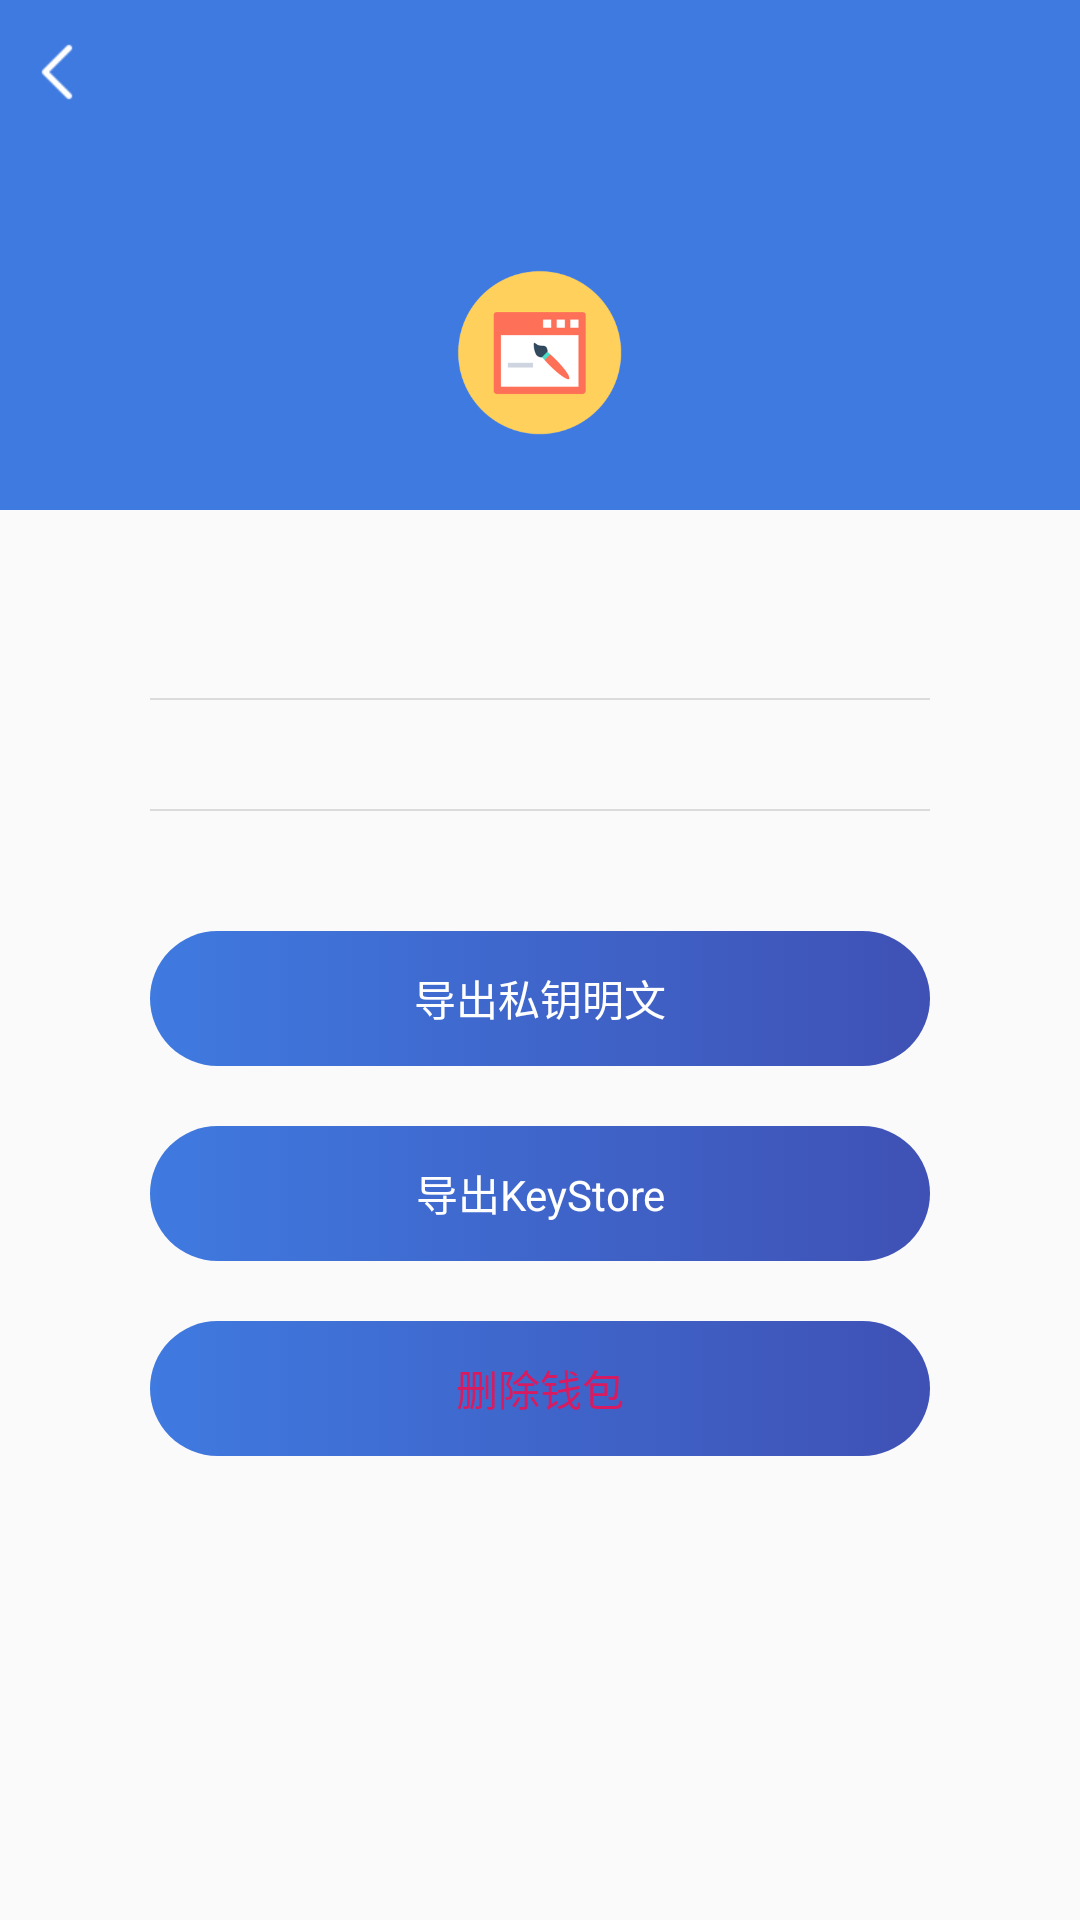

Where icons sit on this 1080px x 1920px app screen, as [left=x1, top=y1, right=x2, bottom=y2]:
back: [left=41, top=44, right=73, bottom=100]
